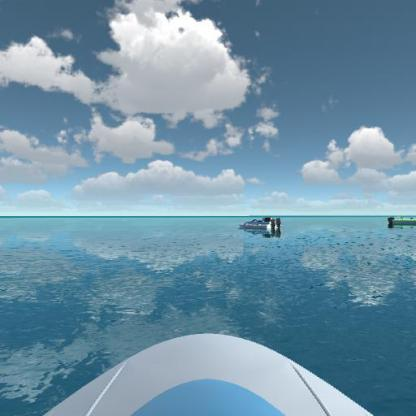usv0: (387, 210, 415, 228)
usv1: (235, 214, 284, 236)
